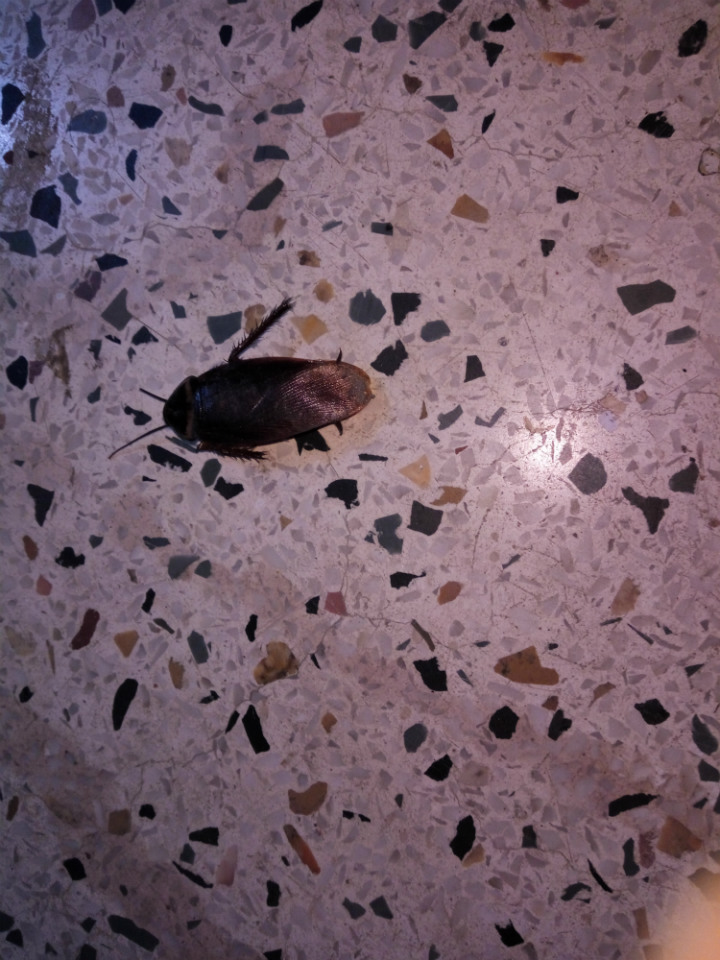cockroach: (66, 252, 481, 549)
